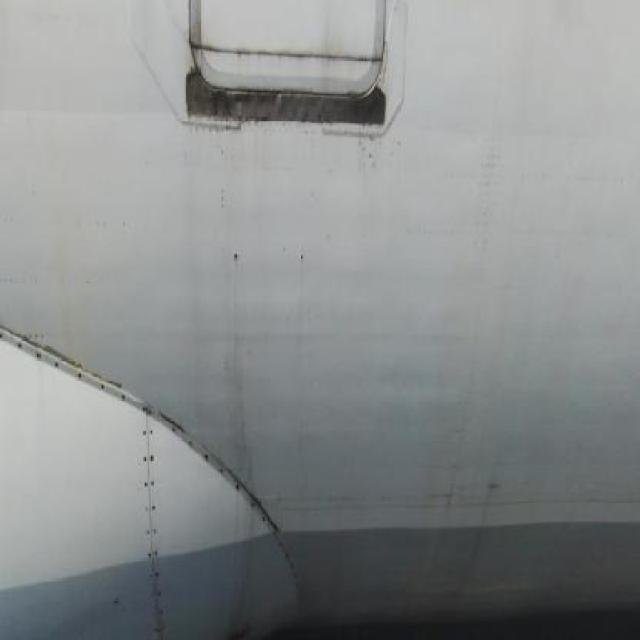Missing-Rivet: (182, 415, 302, 579), (1, 310, 128, 408), (132, 386, 178, 640)
